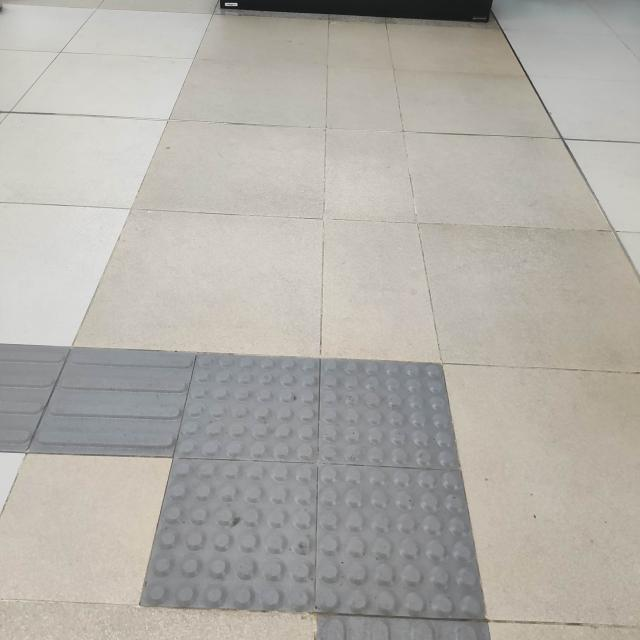kiri: (0, 273, 564, 640)
